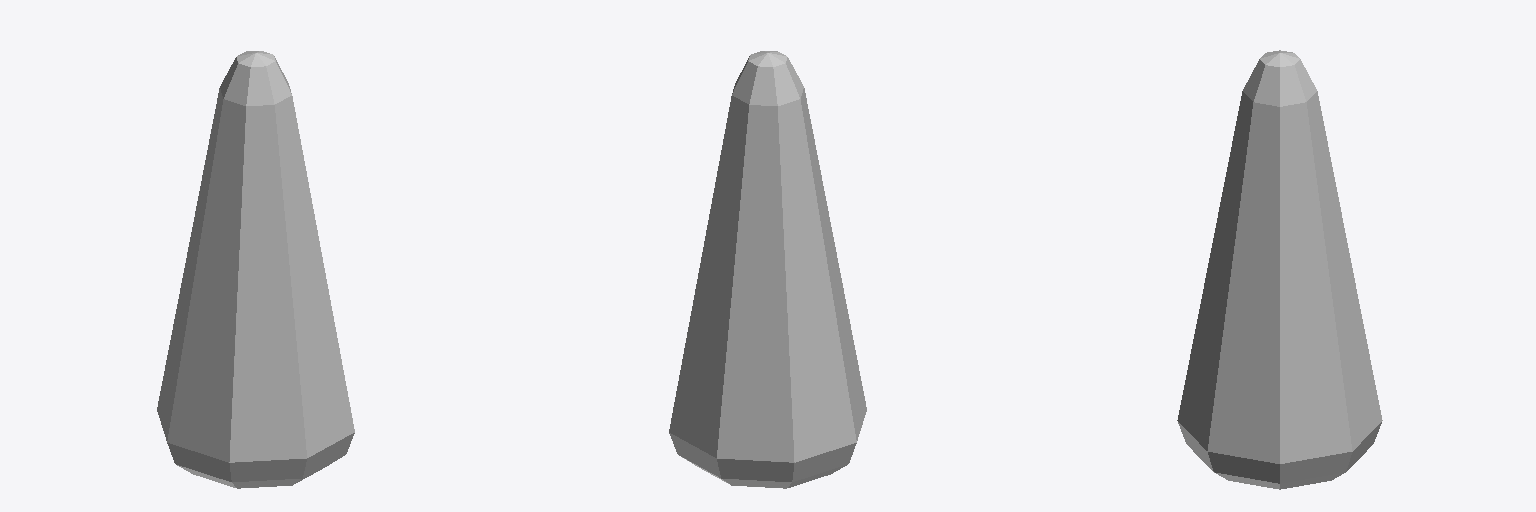
Rendered from treeC.obj.
The picture shows the model from 3 angles: view 1: azimuth 30°, elevation 25°; view 2: azimuth 150°, elevation 25°; view 3: azimuth 270°, elevation 25°; orthographic projection.
Parts seen in each view (by area): view 1: Tree_C_Circle; view 2: Tree_C_Circle; view 3: Tree_C_Circle.
Boxes of the visible parts, x1,y1,x2,y2 form: Tree_C_Circle: [157, 51, 354, 488]; Tree_C_Circle: [669, 51, 866, 488]; Tree_C_Circle: [1177, 50, 1382, 489].
Size of the model in its own units: 0.686 by 1.5 by 0.686.